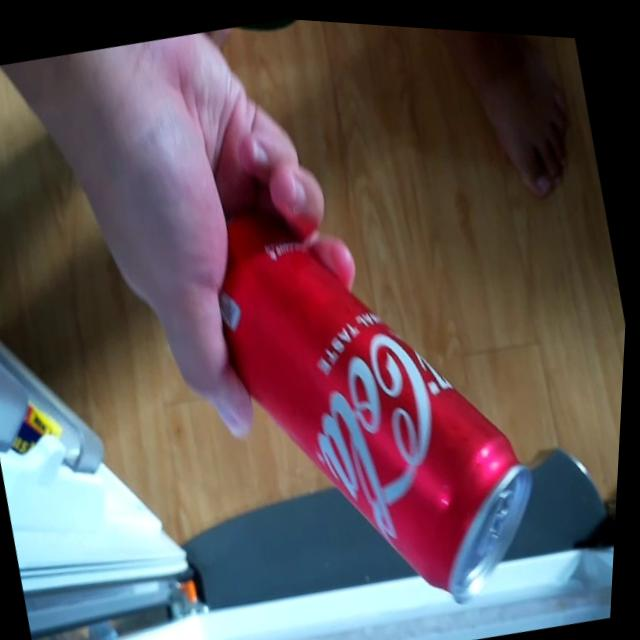coke: (165, 115, 584, 640)
